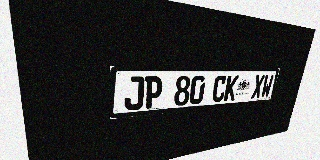0: (189, 75, 206, 105)
8: (173, 76, 192, 106)
C: (211, 75, 227, 103)
J: (124, 76, 145, 111)
K: (223, 75, 239, 101)
P: (144, 76, 163, 109)
W: (260, 75, 274, 98)
X: (251, 75, 265, 99)
